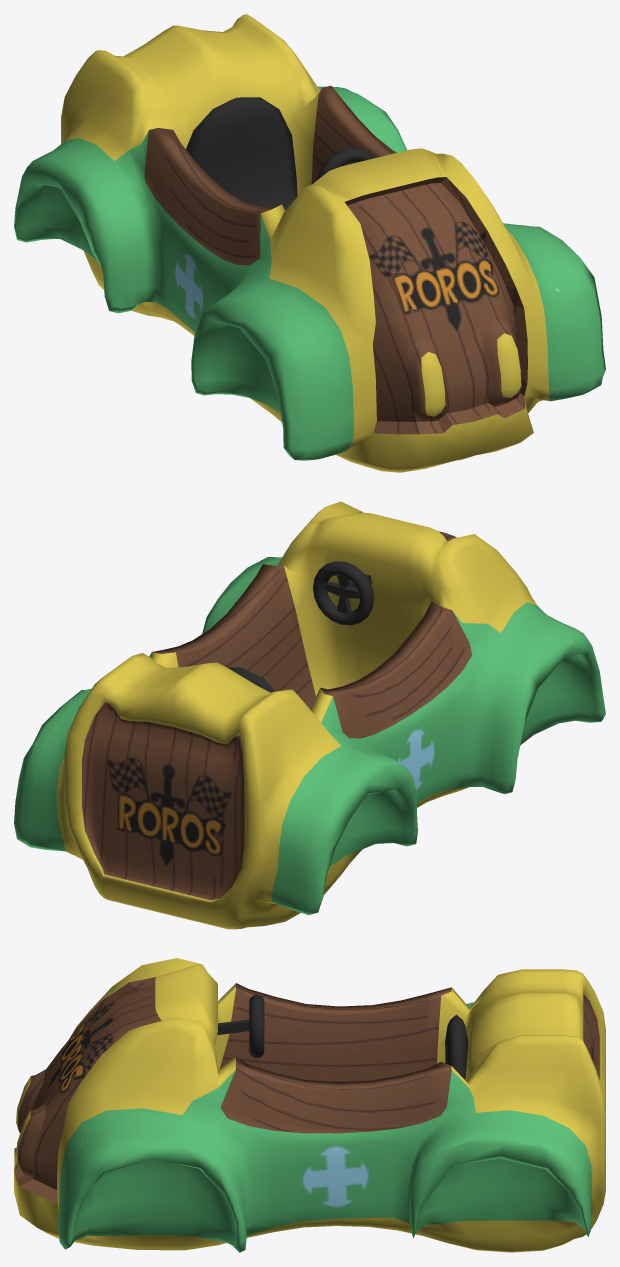
File: Carro_Escudero.fbx
The picture shows the model from 3 angles, top to bottom: view 1: azimuth 30°, elevation 25°; view 2: azimuth 150°, elevation 25°; view 3: azimuth 270°, elevation 25°; orthographic projection. The views are drawn at different scales.
Visible parts, largest first — view 1: polySurface180; view 2: polySurface180; view 3: polySurface180.
Boxes of the visible parts, left/top/right/bottom form: polySurface180: left=14, top=14, right=605, bottom=472; polySurface180: left=14, top=501, right=605, bottom=929; polySurface180: left=14, top=958, right=605, bottom=1252.
Bounding box in the file's own units: 380 × 269 × 632.
1 material, 1 textured.
